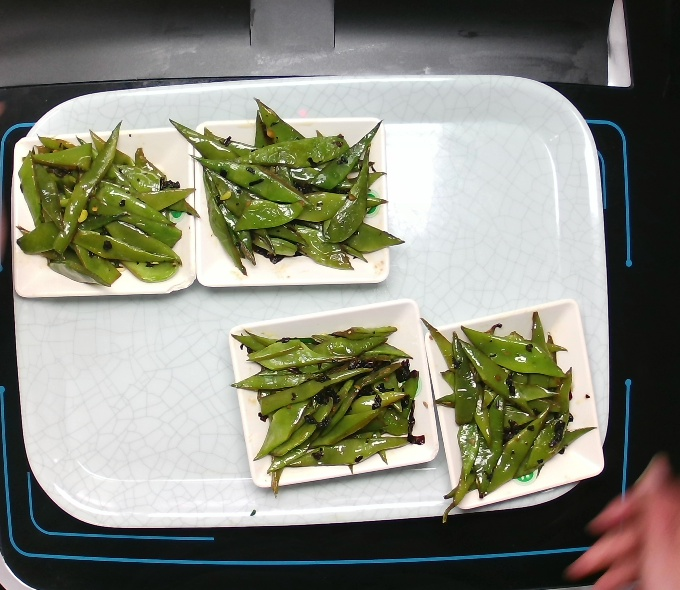wcq-ChaoSiJiDou: (163, 92, 410, 280), (416, 304, 602, 532), (220, 318, 429, 499), (8, 115, 202, 291)
